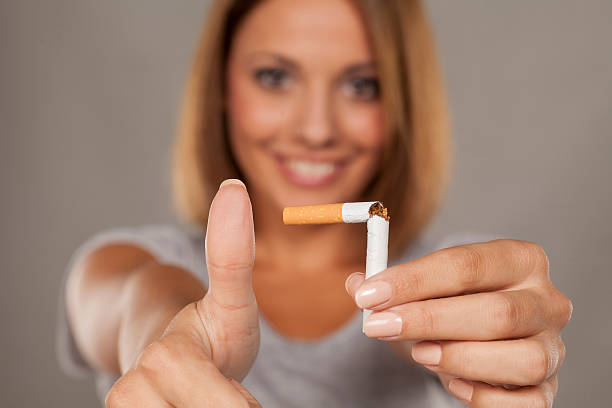cigarette: (282, 200, 386, 225), (364, 215, 390, 280)
